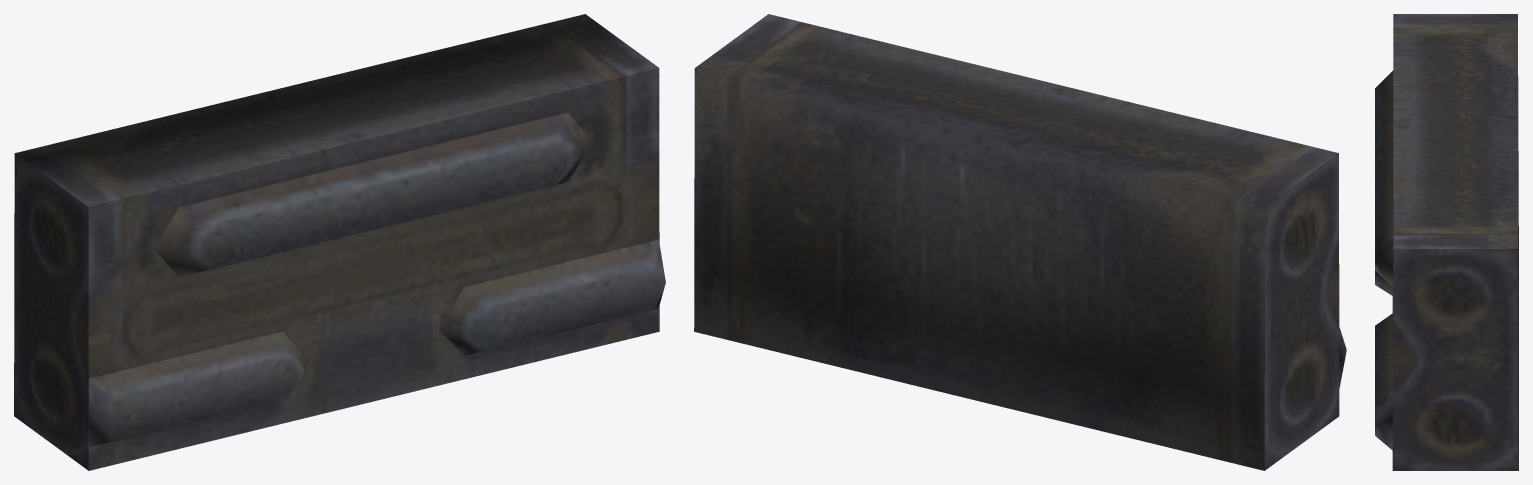
3 renders of one model, left to right at view 1: azimuth 30°, elevation 25°; view 2: azimuth 150°, elevation 25°; view 3: azimuth 270°, elevation 25°, orthographic. The views are drawn at different scales.
Visible parts, largest first — view 1: set_0_group_0; view 2: set_0_group_0; view 3: set_0_group_0.
Boxes of the visible parts, x1,y1,x2,y2 form: set_0_group_0: (14, 14, 665, 470); set_0_group_0: (694, 14, 1346, 470); set_0_group_0: (1375, 14, 1518, 470).
Size of the model in its own units: 0.3066 by 0.1353 by 0.0793.
1 material, 1 textured.
